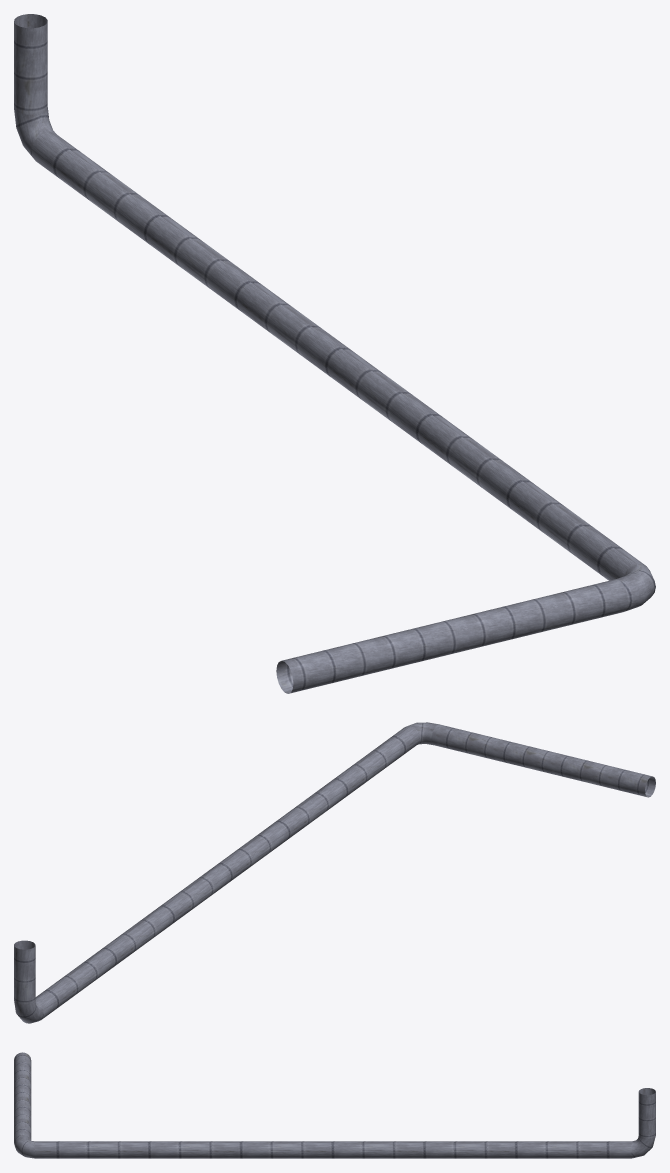
The model's file is Pipes_4.fbx.
The picture shows the model from 3 angles, top to bottom: view 1: azimuth 30°, elevation 25°; view 2: azimuth 150°, elevation 25°; view 3: azimuth 270°, elevation 25°; orthographic projection. The views are drawn at different scales.
Parts seen in each view (by area): view 1: Pipes4; view 2: Pipes4; view 3: Pipes4.
Part boxes in pixels (<box>): Pipes4: <box>14,14,655,693</box>; Pipes4: <box>14,722,655,1023</box>; Pipes4: <box>14,1052,655,1158</box>.
Size of the model in its own units: 717 by 237 by 2082.
